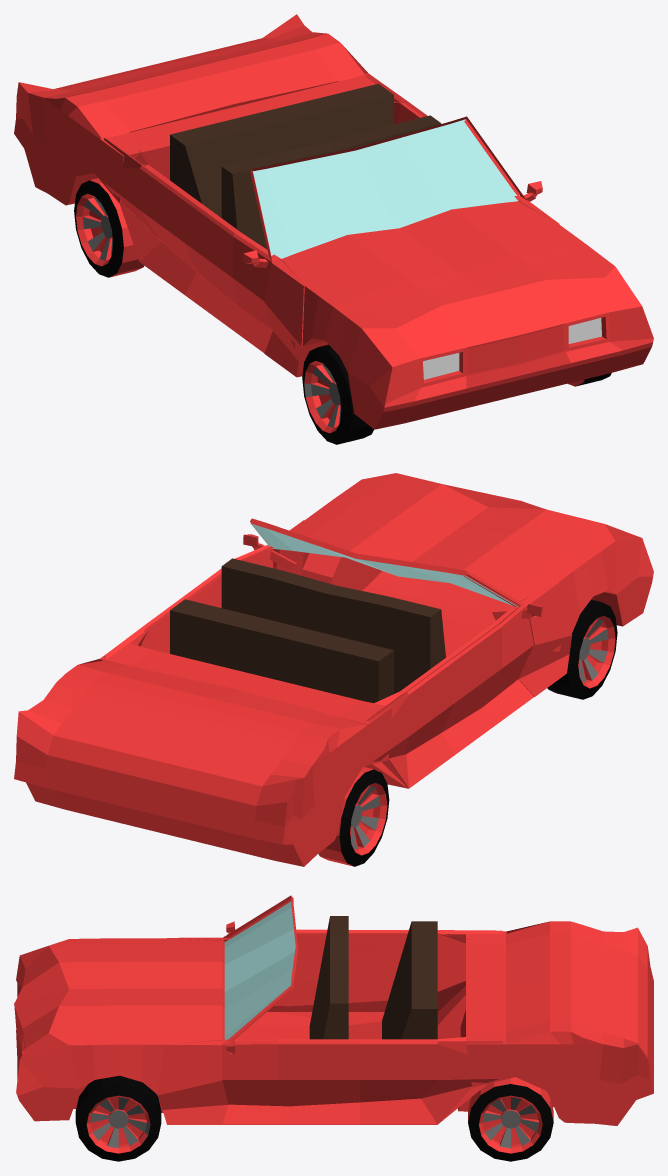
File: Broom4.fbx
The picture shows the model from 3 angles, top to bottom: view 1: azimuth 30°, elevation 25°; view 2: azimuth 150°, elevation 25°; view 3: azimuth 270°, elevation 25°; orthographic projection. The views are drawn at different scales.
Visible parts, largest first — view 1: Cube; view 2: Cube; view 3: Cube.
Boxes of the visible parts, box(x1,y1,x2,y2) form: Cube: box(14, 14, 653, 444); Cube: box(14, 473, 653, 866); Cube: box(14, 895, 653, 1161).
Bounding box in the file's own units: 0.3402 × 0.2106 × 0.7372.
